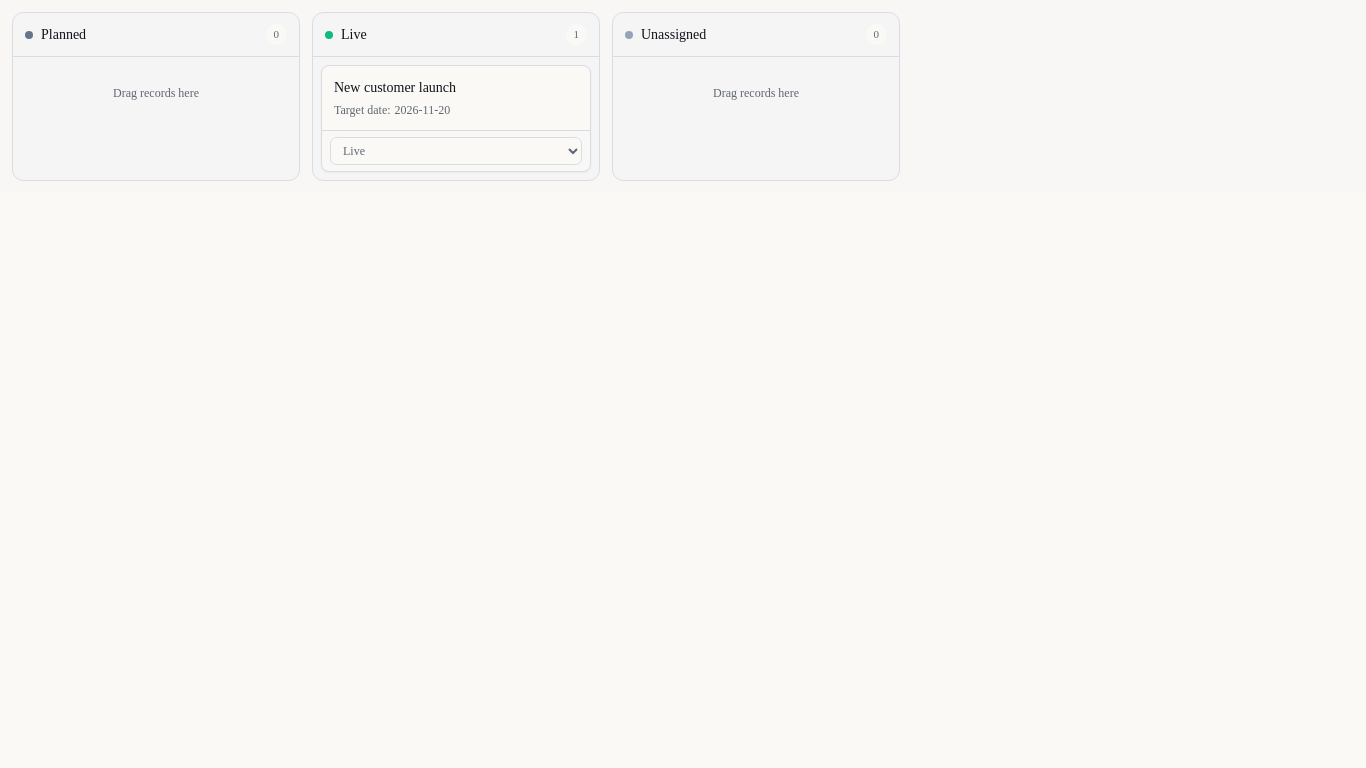
Scenario: alternative data views › moves Kanban cards through named lanes and opens a named record drawer
Earlier steps of the test are not shown.
expect the text "Target date:" is shown: met, box top-left (334, 102), bottom-right (391, 118)
Step 1. Select "Planned" in the dropdown named "Move New customer launch to another group" → (456, 151), box top-left (330, 137), bottom-right (582, 165)
Step 2. Click the button with aria-label "Open New customer launch" → (456, 98), box top-left (322, 66), bottom-right (590, 130)
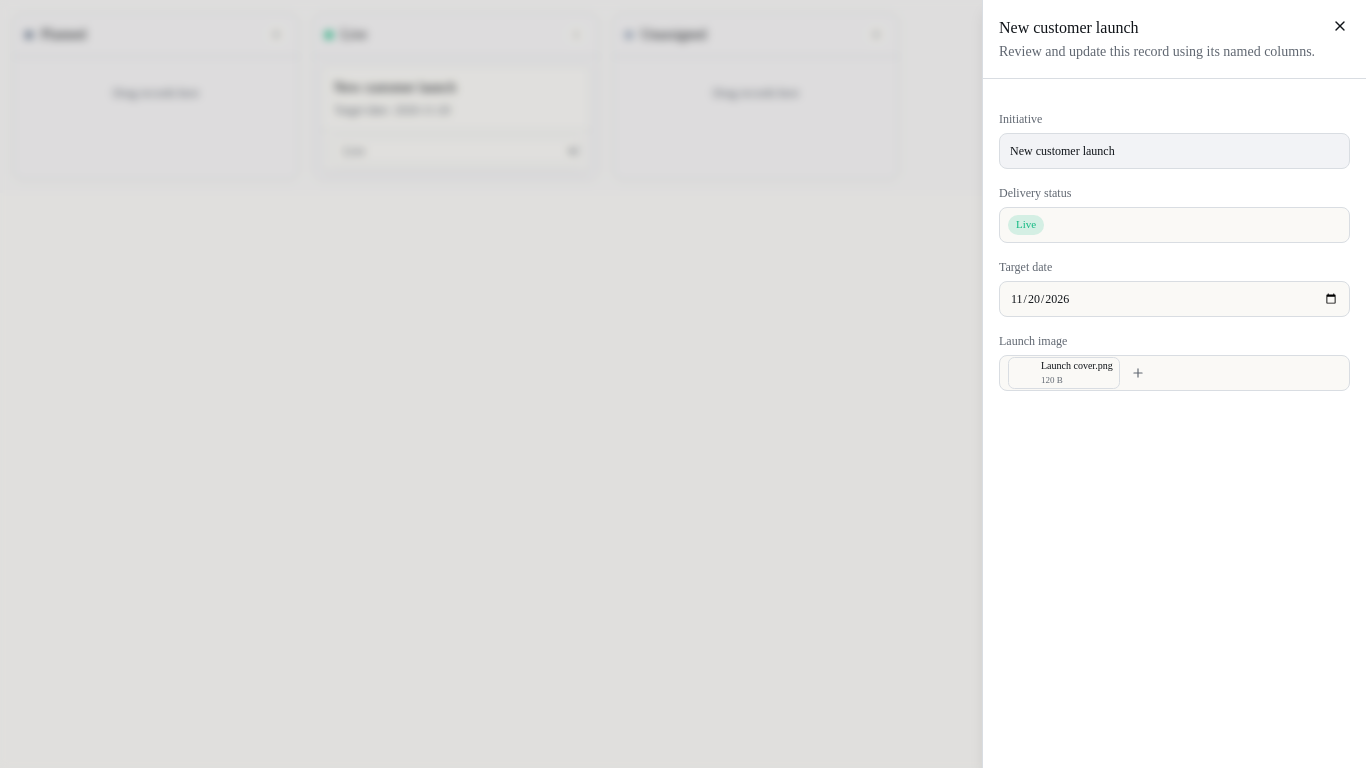
expect the dialog "New customer launch" is shown: met, box top-left (982, 0), bottom-right (1365, 767)
expect the text "Delivery status" is shown: met, box top-left (999, 186), bottom-right (1071, 200)
